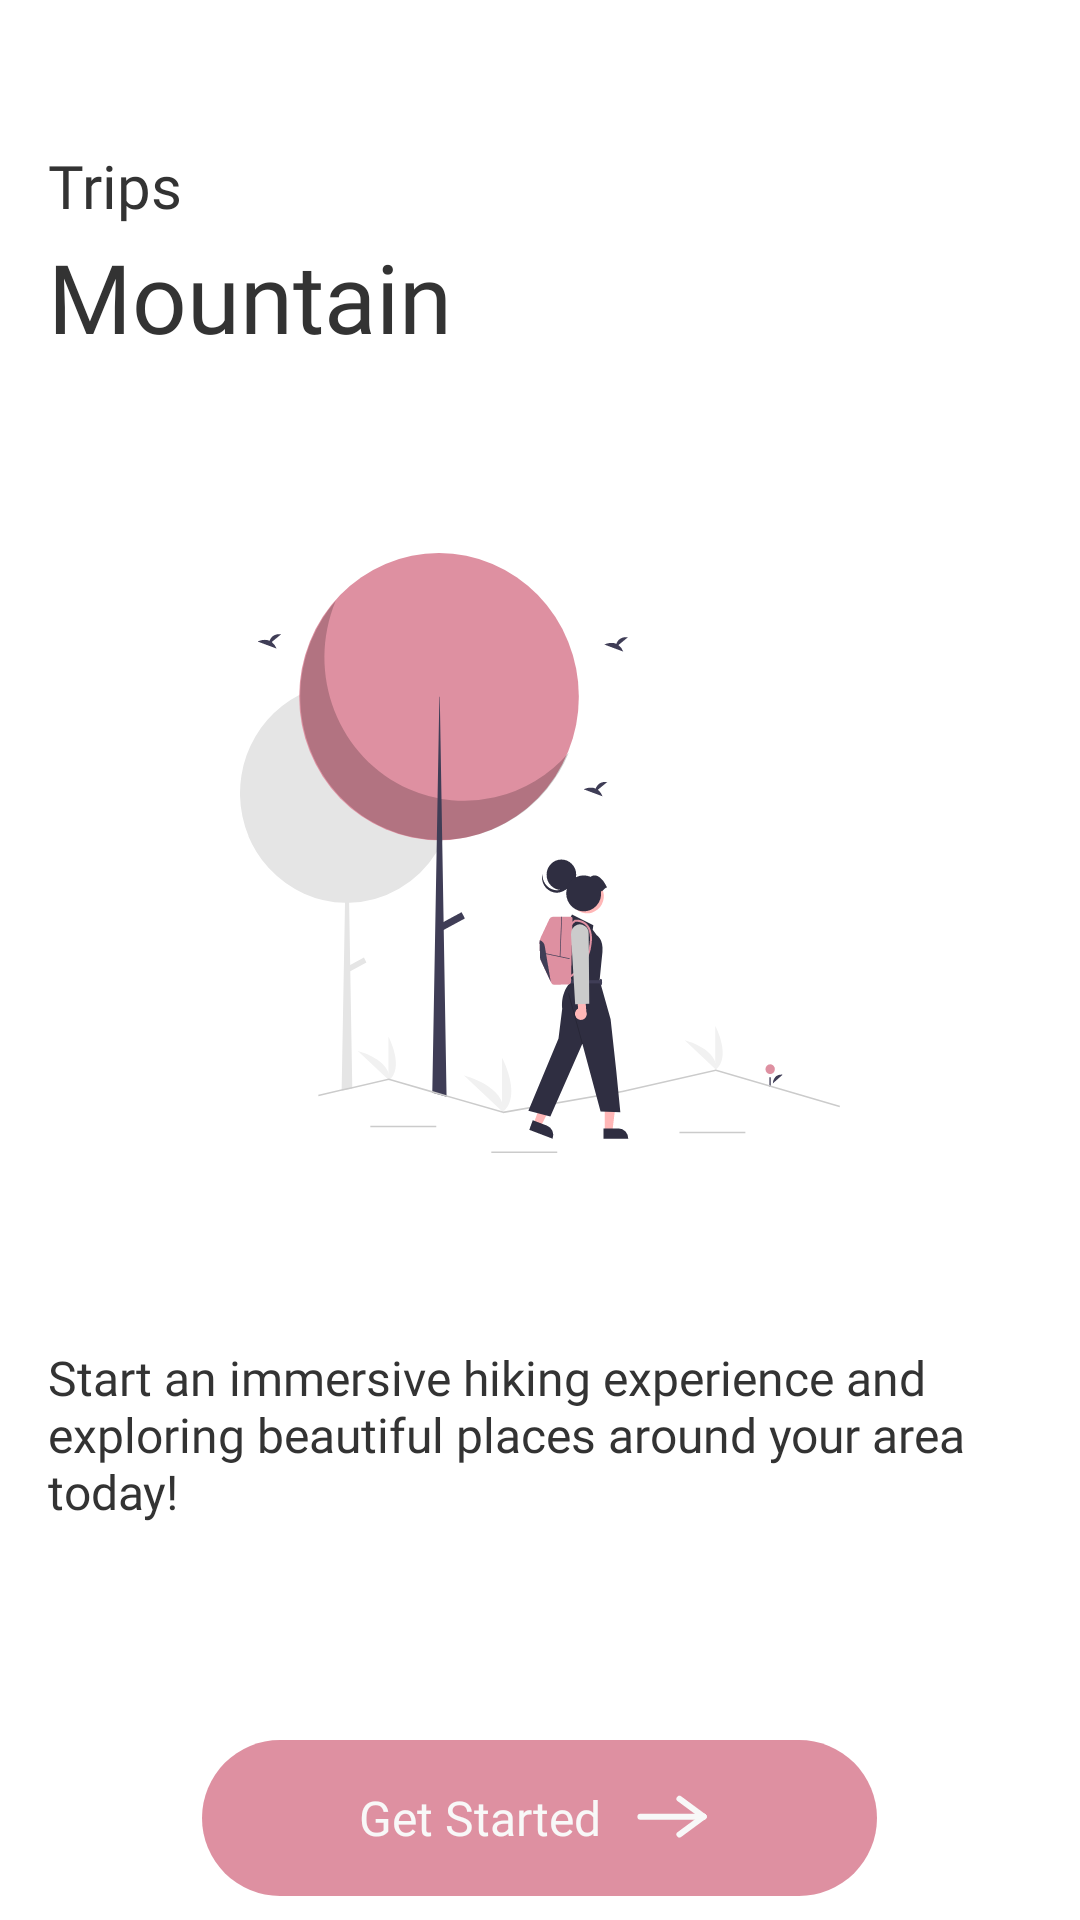

Icons on this 1080 × 1920 Android screen, each with the point to tap as point (x, y):
Next: point (672, 1816)
